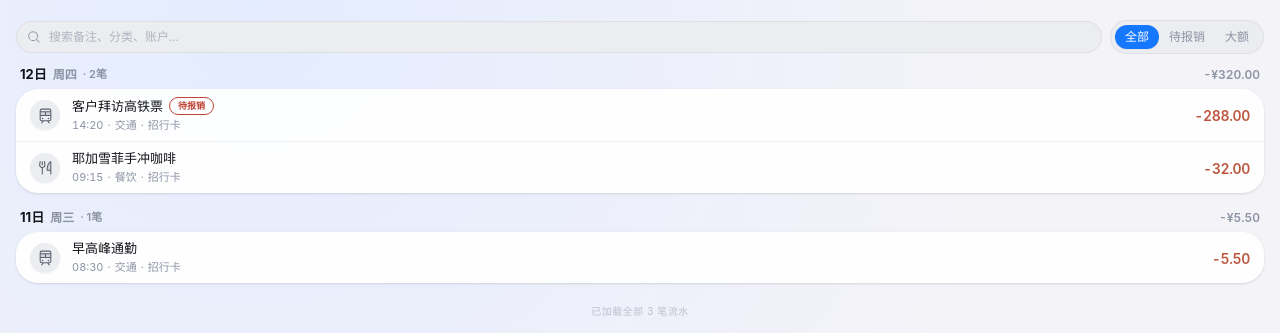
Test: TransactionGroup component › filters by reimbursable transactions when filter pill is clicked
Expected: the text "客户拜访高铁票" is shown, [72,98,163,114]
Expected: the text "耶加雪菲手冲咖啡" is shown, [72,150,176,167]
What coordinates should you click on to do the following:
click the button "待报销"
I would click on:
 (1187, 37)
Its box is [1159,25,1215,49].
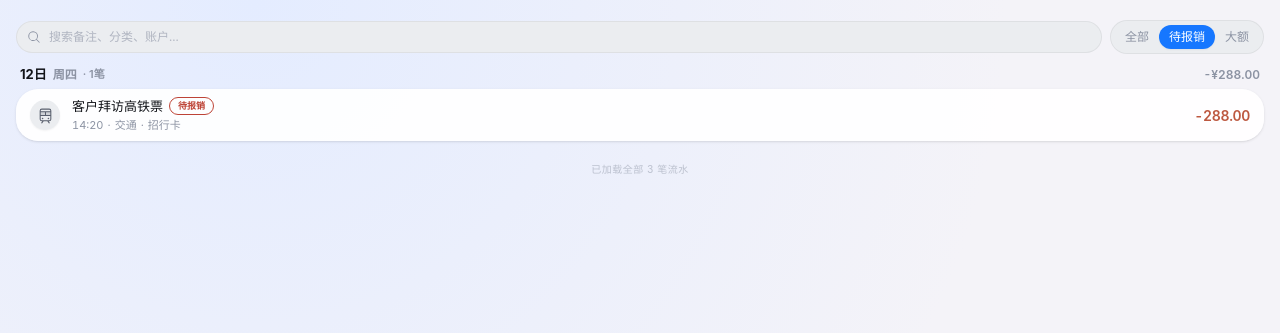
Expected: the text "客户拜访高铁票" is shown, [72,98,163,114]
Now the text "耶加雪菲手冲咖啡" is gone
